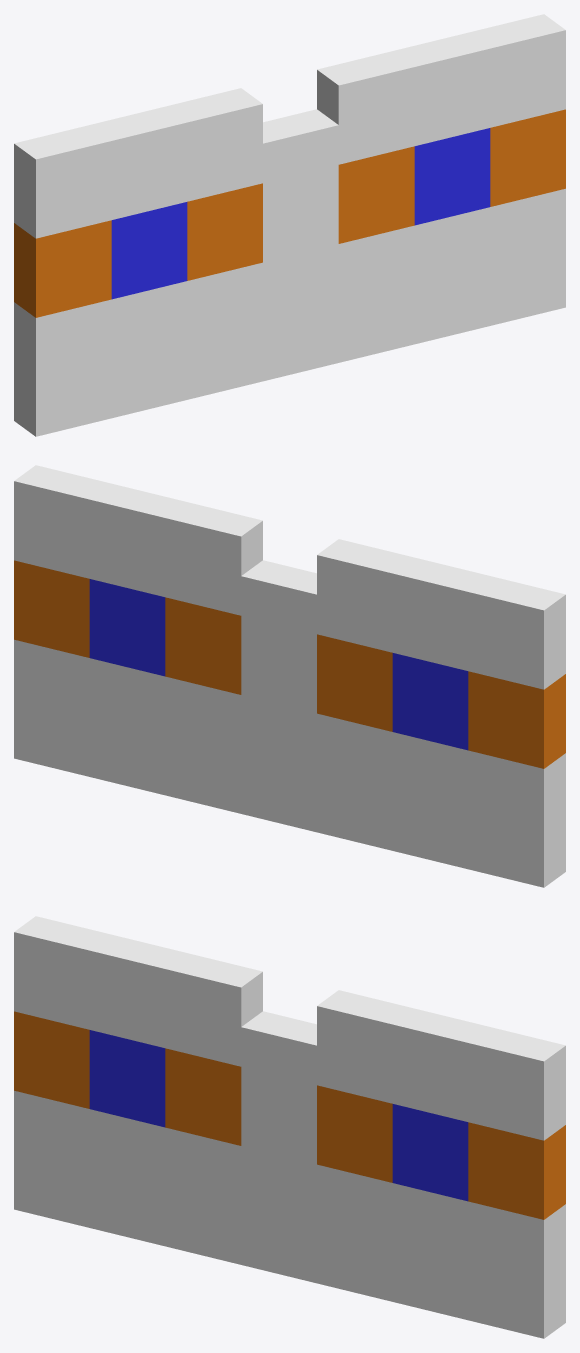
The picture shows the model from 3 angles, top to bottom: view 1: azimuth 30°, elevation 25°; view 2: azimuth 150°, elevation 25°; view 3: azimuth 330°, elevation 25°; orthographic projection.
Parts seen in each view (by area): view 1: eye-shapes059, eye-shapes019, eye-shapes020; view 2: eye-shapes059, eye-shapes019, eye-shapes020; view 3: eye-shapes059, eye-shapes019, eye-shapes020.
Boxes of the visible parts, x1=… form: eye-shapes059: x1=14, y1=14, x2=565, y2=436; eye-shapes019: x1=14, y1=109, x2=565, y2=317; eye-shapes020: x1=111, y1=128, x2=490, y2=299; eye-shapes059: x1=14, y1=465, x2=565, y2=887; eye-shapes019: x1=14, y1=560, x2=565, y2=768; eye-shapes020: x1=89, y1=579, x2=468, y2=750; eye-shapes059: x1=14, y1=916, x2=565, y2=1338; eye-shapes019: x1=14, y1=1011, x2=565, y2=1219; eye-shapes020: x1=89, y1=1030, x2=468, y2=1201.
Bounding box in the file's own units: 140 × 70 × 10.
Materials: 3 (3 with a texture image).
